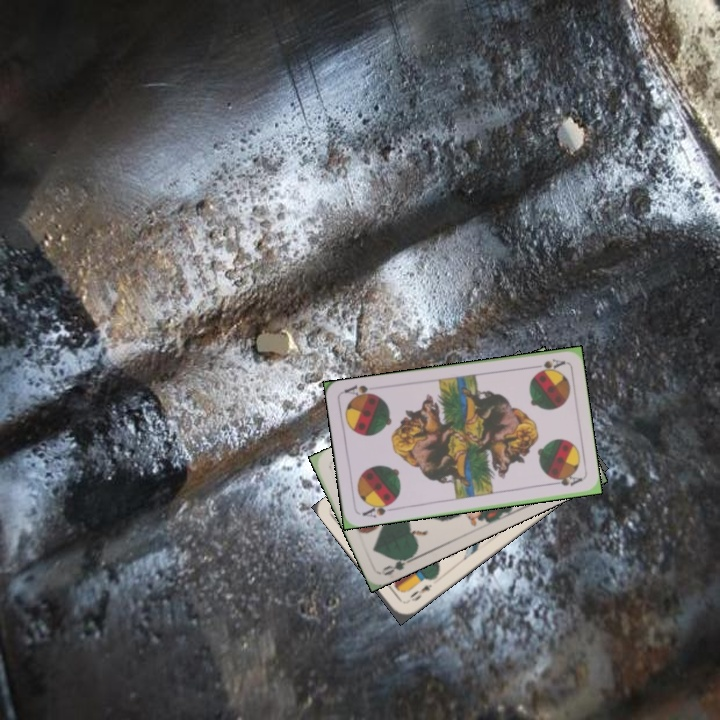EO: (406, 580, 435, 604)
GO: (378, 551, 418, 578)
SA: (358, 498, 397, 520), (527, 355, 567, 376)
